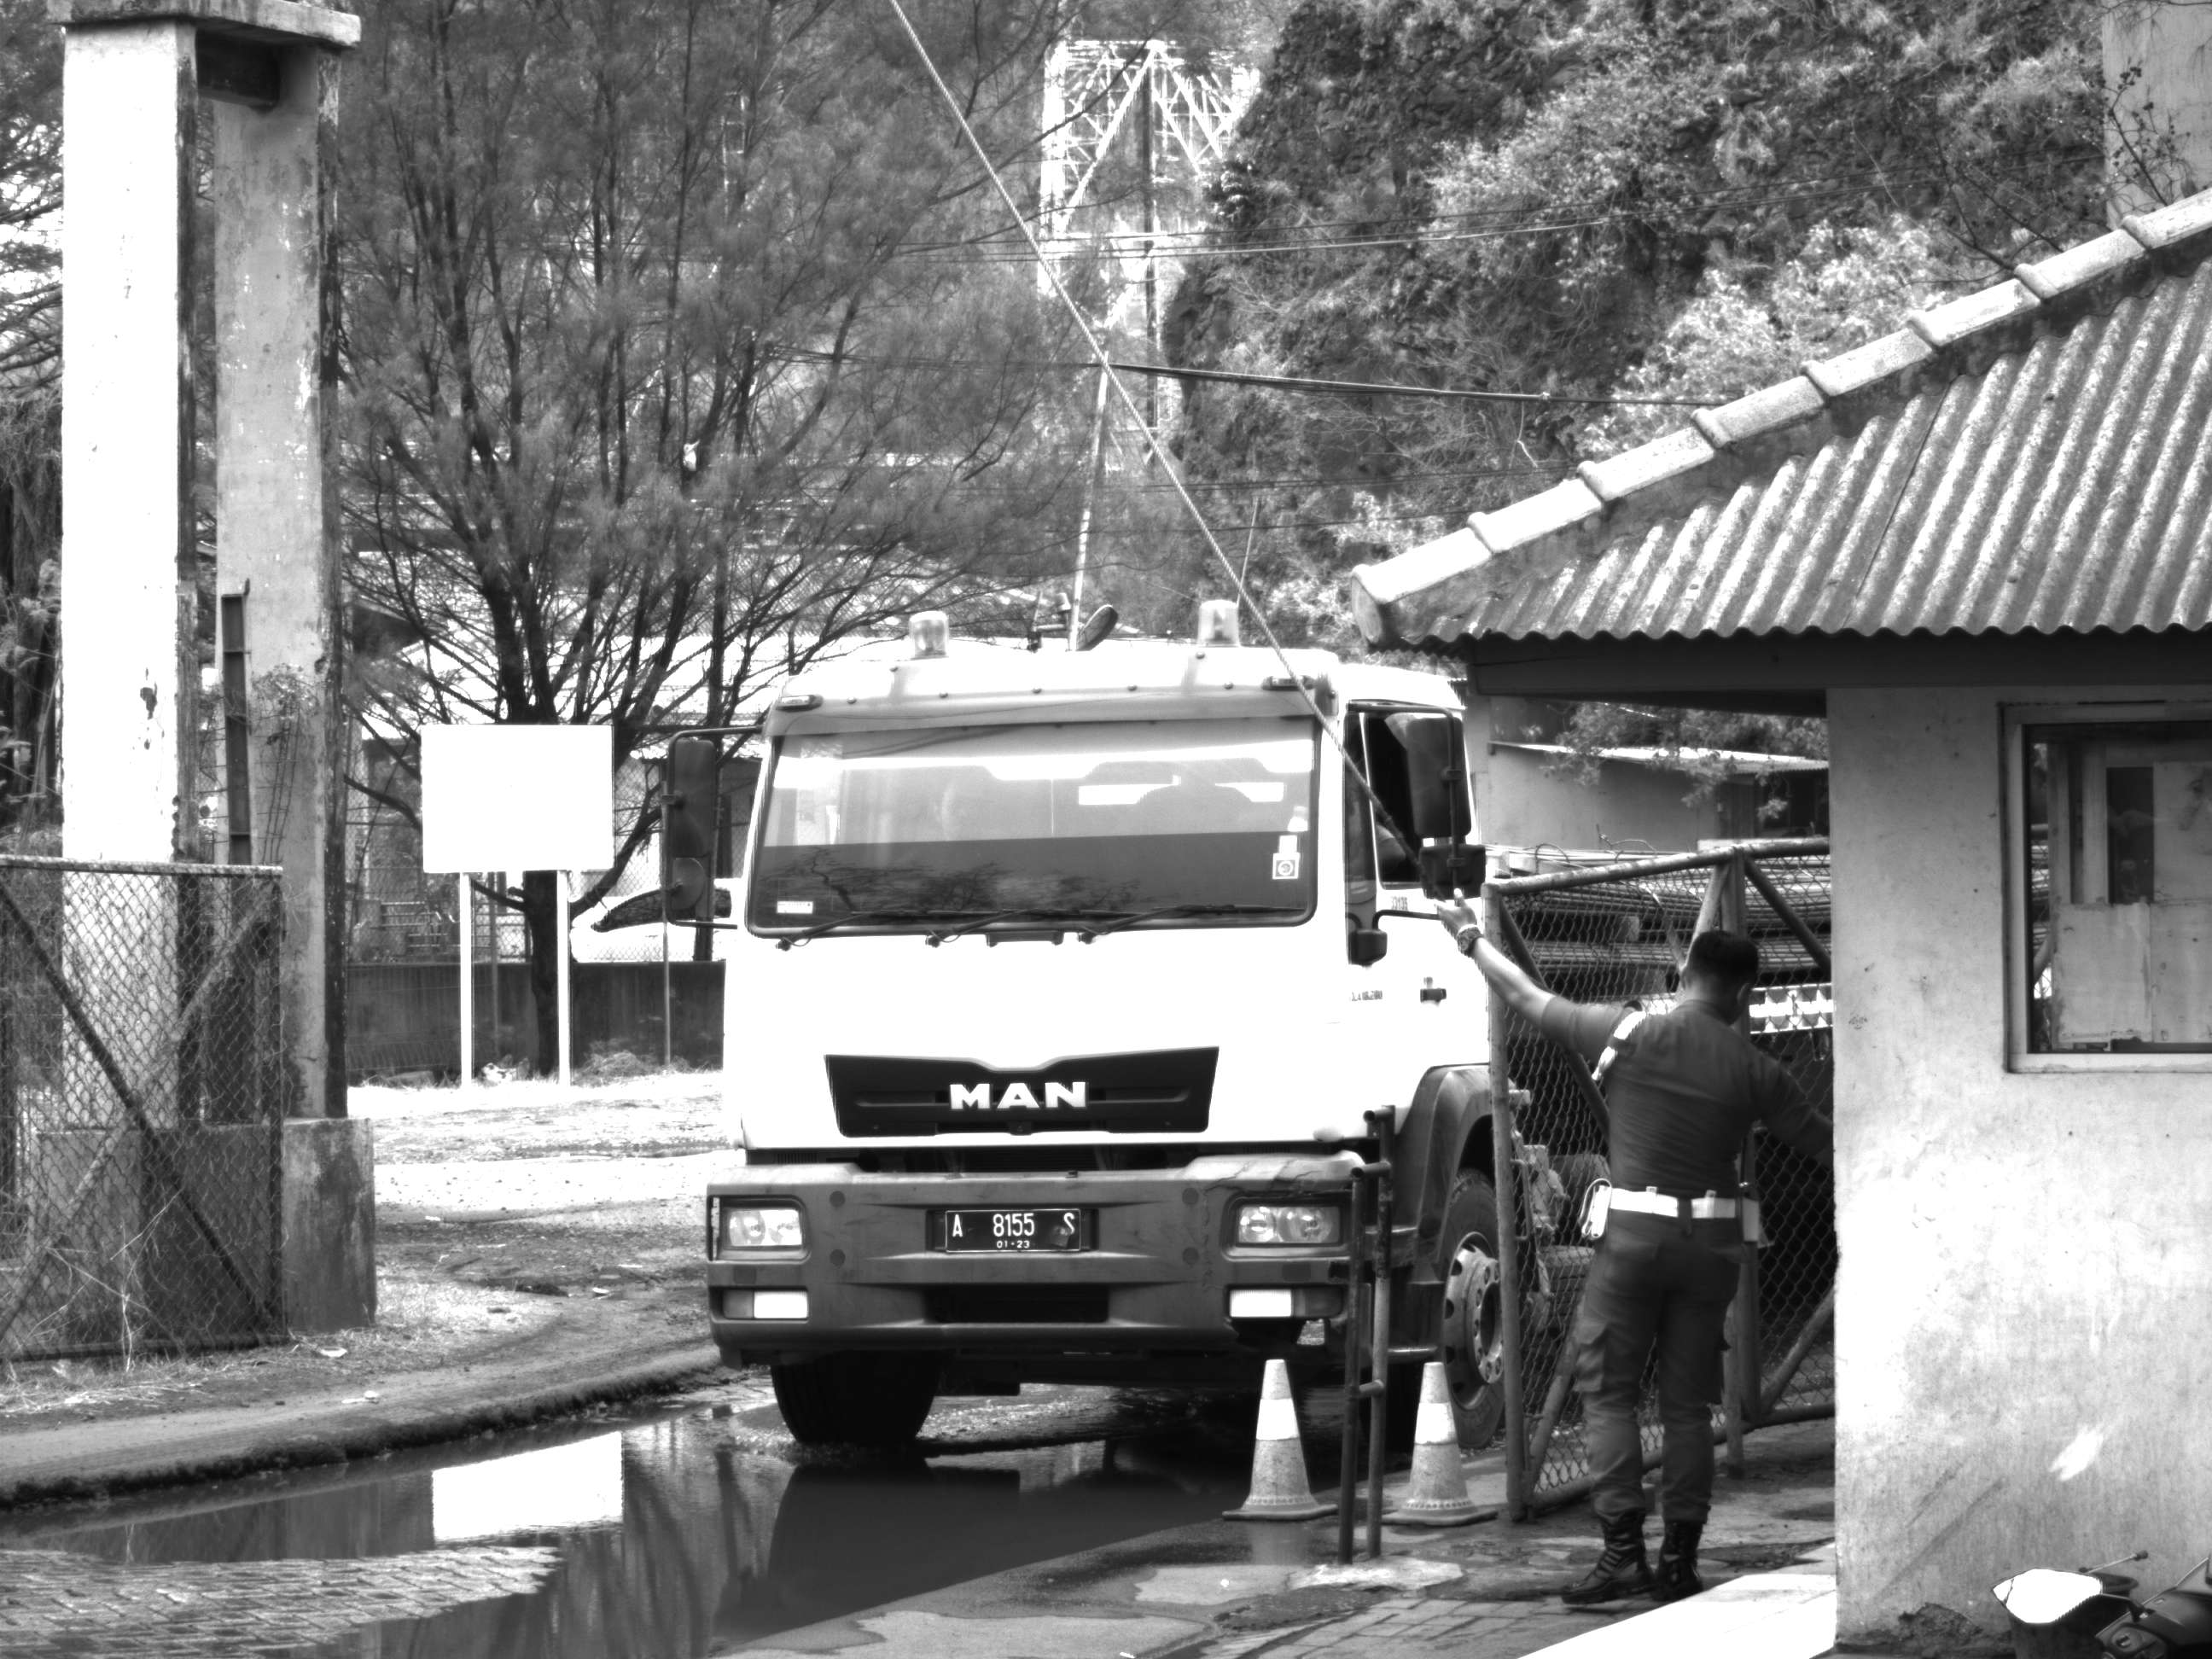day_truck_front: (649, 630, 1538, 1479)
plate: (941, 1206, 1085, 1255)
